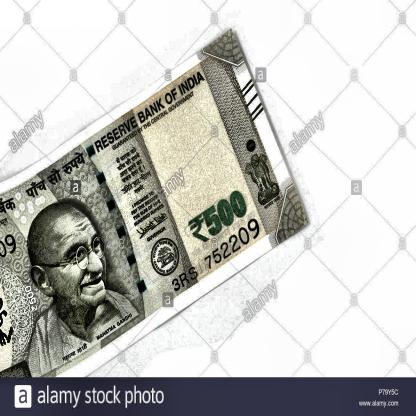Rs500: (182, 179, 252, 253)
